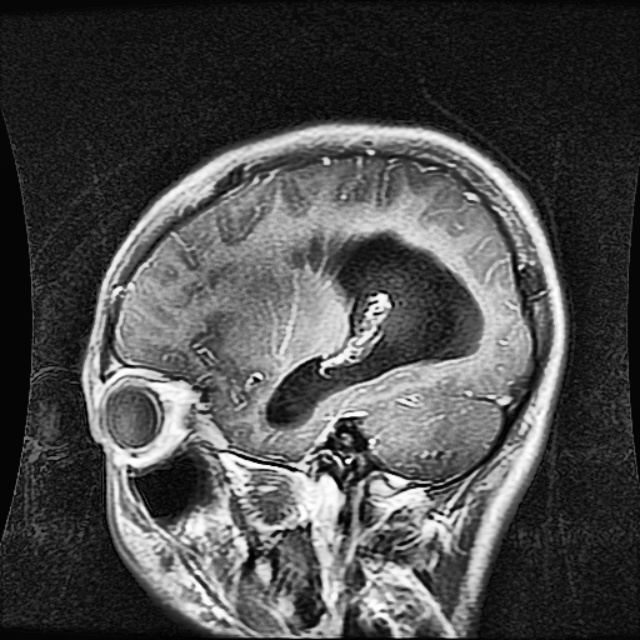Meningioma: (263, 228, 482, 425)
